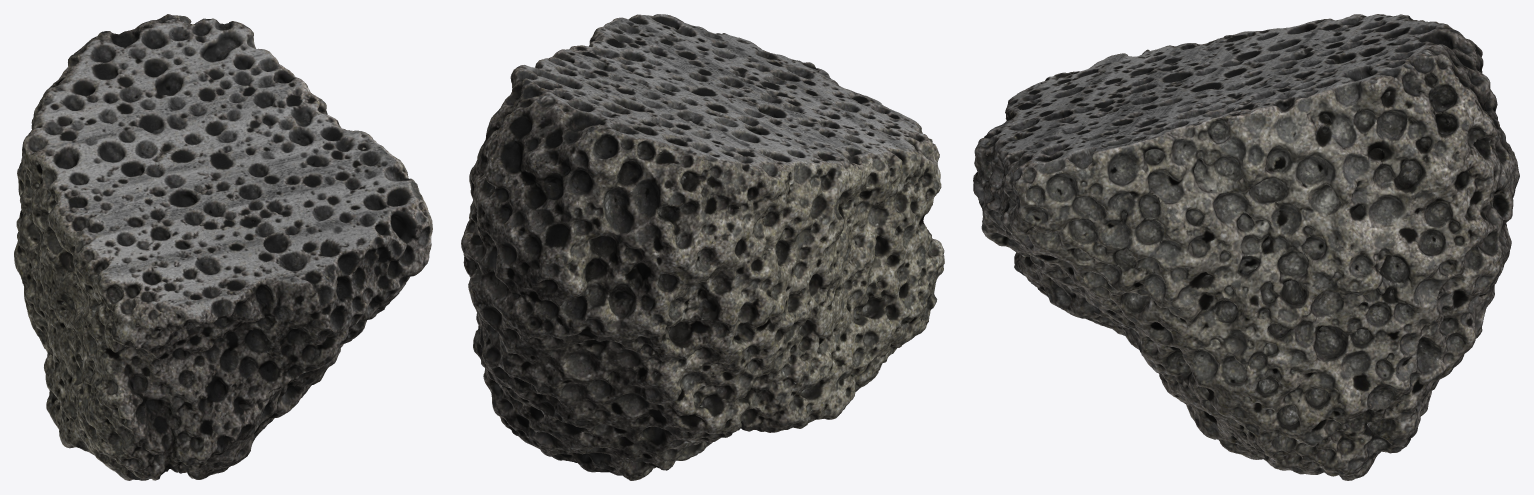
The picture shows the model from 3 angles, left to right: view 1: azimuth 30°, elevation 25°; view 2: azimuth 150°, elevation 25°; view 3: azimuth 270°, elevation 25°; orthographic projection. The views are drawn at different scales.
Parts seen in each view (by area): view 1: Object_2, Object_3; view 2: Object_3, Object_2; view 3: Object_2, Object_3.
Boxes of the visible parts, <box> form: Object_2: <box>16,18,432,476</box>; Object_3: <box>14,14,324,480</box>; Object_3: <box>461,56,944,477</box>; Object_2: <box>461,14,944,480</box>; Object_2: <box>973,21,1519,479</box>; Object_3: <box>987,14,1519,480</box>.
Bounding box in the file's own units: 0.0607 × 0.0715 × 0.0821.
1 material, 1 textured.
